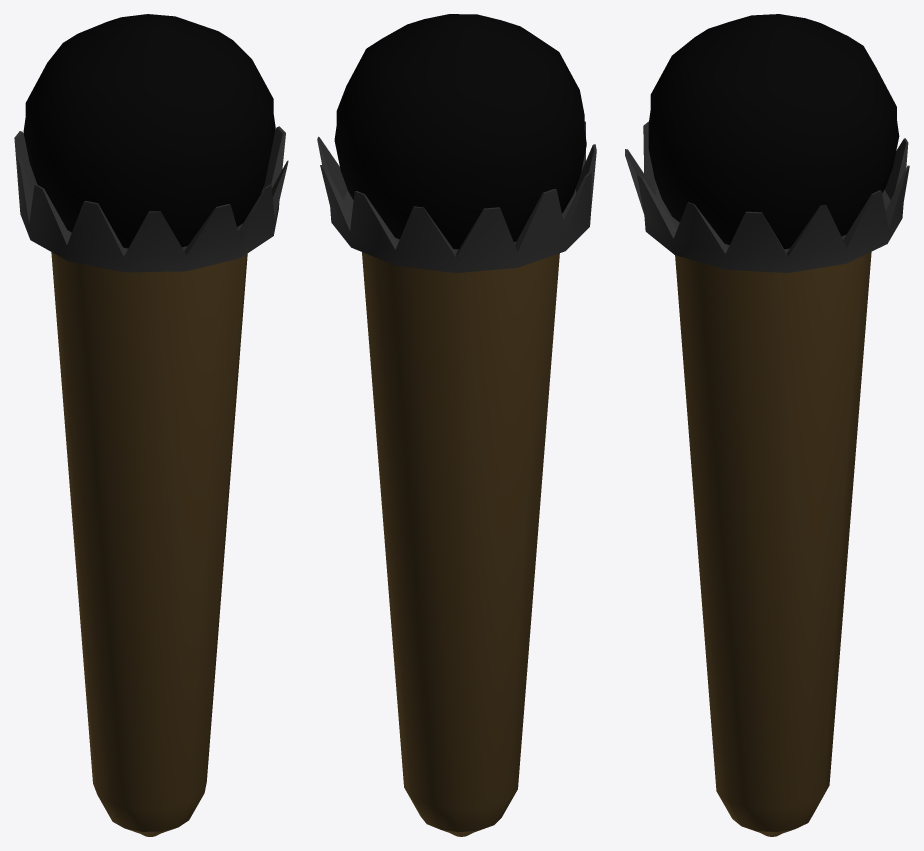
Rendered from torch.fbx.
3 views of the same model, side by side, from view 1: azimuth 30°, elevation 25°; view 2: azimuth 150°, elevation 25°; view 3: azimuth 270°, elevation 25° (orthographic).
Visible parts, largest first — view 1: Cylinder; view 2: Cylinder; view 3: Cylinder.
Boxes of the visible parts, x1,y1,x2,y2 form: Cylinder: (14, 14, 288, 836); Cylinder: (317, 14, 596, 836); Cylinder: (625, 14, 909, 836).
Size of the model in its own units: 145 by 459 by 146.
